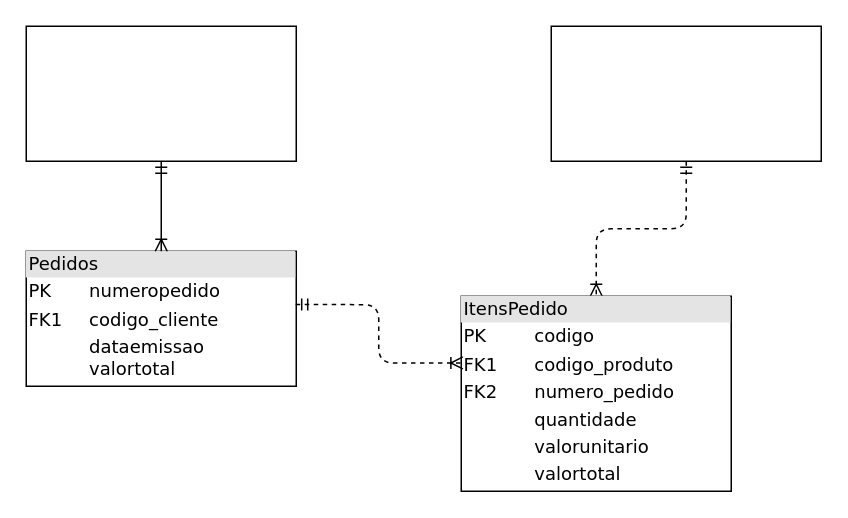
Some shapes in this 848 by 518 pixel diagram are drawn without their labels. Here are the shapes that lost their labels. From the top down, the centre of each, then its label:
At point 160,93: "Cliente PK codigo nome cidade uf".
At point 685,93: "Produtos PK codigo descricao precovenda".
